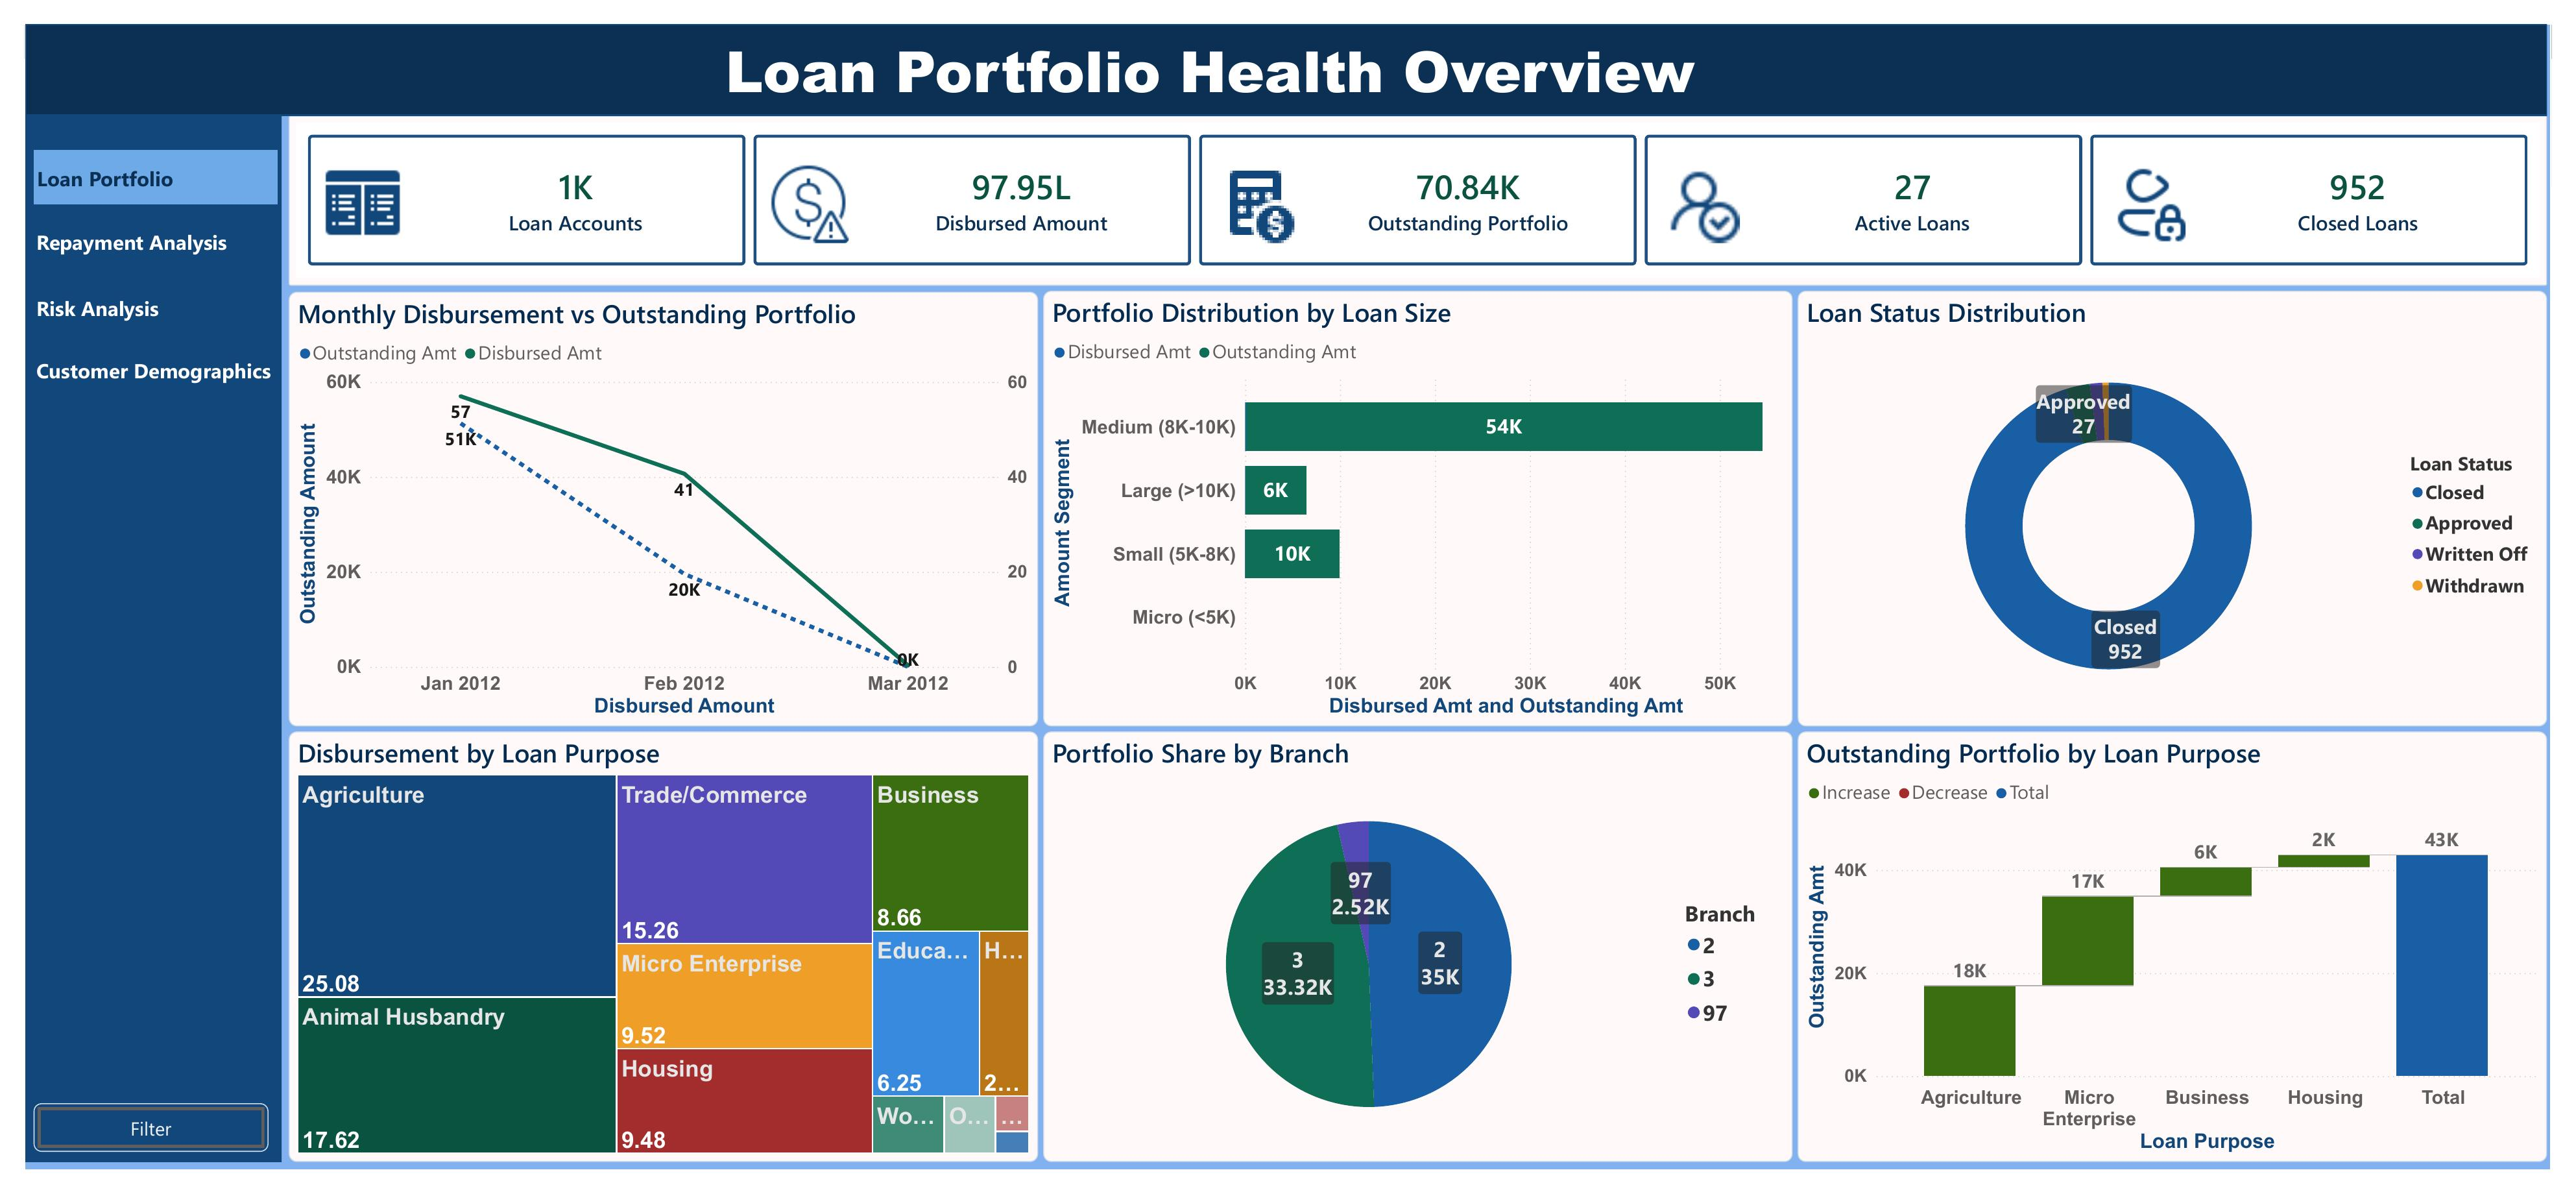

The page's visual inventory and layout, read from the dashboard file:
{"tool":"powerbi","page":{"name":"Loan_Portfolio","canvas":[2493,1130],"ordinal":0},"visuals":[{"type":"cardVisual","fields":{"Data":["loan_portfolio.Total Loans","loan_portfolio.Total Disbursed","loan_portfolio.Total Outstanding","loan_portfolio.Active Loans","loan_portfolio.Closed Loans"]},"box":[260,90,2230,167.5],"z":0},{"type":"lineChart","title":"Monthly Disbursement vs Outstanding Portfolio","fields":{"Y":["loan_portfolio.Total Outstanding"],"Y2":["loan_portfolio.Total_Disbursed"],"Category":["date_dim.Month Year"]},"box":[259.9,263,740,429],"z":0,"group":"g1"},{"type":"donutChart","title":"Loan Status Distribution","fields":{"Y":["loan_portfolio.Total Loans"],"Category":["loan_fact.loan_status_label"]},"box":[1750,262.5,740,430],"z":1000,"group":"g1"},{"type":"treemap","title":"Disbursement by Loan Purpose","fields":{"Group":["loan_fact.loan_purpose_label"],"Values":["loan_portfolio.Total_Disbursed"]},"box":[259.9,697.5,740,425],"z":1000},{"type":"barChart","title":"Portfolio Distribution by Loan Size","fields":{"Category":["loan_fact.amount_segment"],"Y":["loan_portfolio.Total_Disbursed","loan_portfolio.Total Outstanding"]},"box":[1005,262.5,740,430],"z":2000,"group":"g1"},{"type":"waterfallChart","title":"Outstanding Portfolio by Loan Purpose","fields":{"Category":["loan_fact.loan_purpose_label"],"Y":["loan_portfolio.Total Outstanding"]},"box":[1750,697.5,740,425],"z":2000},{"type":"pieChart","title":"Portfolio Share by Branch","fields":{"Y":["loan_portfolio.Total Outstanding"],"Category":["branch_dim.branch_id"]},"box":[1005,697.5,740,425],"z":3000},{"type":"shape","box":[0,0,2490,90],"z":4000},{"type":"textbox","box":[0,0,2489.4,90.5],"z":5000},{"type":"shape","box":[0,90,252.5,1032.5],"z":6000},{"type":"actionButton","box":[7.7,124,241,54],"z":7000},{"type":"actionButton","box":[7.5,187.3,241,54],"z":8000},{"type":"actionButton","box":[7.5,251.7,241,54],"z":9000},{"type":"actionButton","box":[7.5,314,241,54],"z":10000},{"type":"actionButton","box":[10,1060,232.5,60],"z":11000},{"type":"group","id":"g1","title":"Group 1","box":[259.9,262.5,2230.1,430],"z":12000}]}

Visuals, with their boxes on the page's 2493x1130 design canvas (x1, y1, x2, y2). These are canvas units, not pixel positions in the 2576x1194 screenshot, which may show the page scaled, cropped or inside an application window:
cardVisual - loan_portfolio.Total Loans x loan_portfolio.Total Disbursed: select_region(260, 90, 2490, 258)
"Monthly Disbursement vs Outstanding Portfolio" lineChart: select_region(260, 263, 1000, 692)
"Loan Status Distribution" donutChart: select_region(1750, 262, 2490, 692)
"Disbursement by Loan Purpose" treemap: select_region(260, 698, 1000, 1122)
"Portfolio Distribution by Loan Size" barChart: select_region(1005, 262, 1745, 692)
"Outstanding Portfolio by Loan Purpose" waterfallChart: select_region(1750, 698, 2490, 1122)
"Portfolio Share by Branch" pieChart: select_region(1005, 698, 1745, 1122)
shape: select_region(0, 0, 2490, 90)
textbox: select_region(0, 0, 2489, 90)
shape: select_region(0, 90, 252, 1122)
actionButton: select_region(8, 124, 249, 178)
actionButton: select_region(8, 187, 248, 241)
actionButton: select_region(8, 252, 248, 306)
actionButton: select_region(8, 314, 248, 368)
actionButton: select_region(10, 1060, 242, 1120)
"Group 1" group: select_region(260, 262, 2490, 692)
